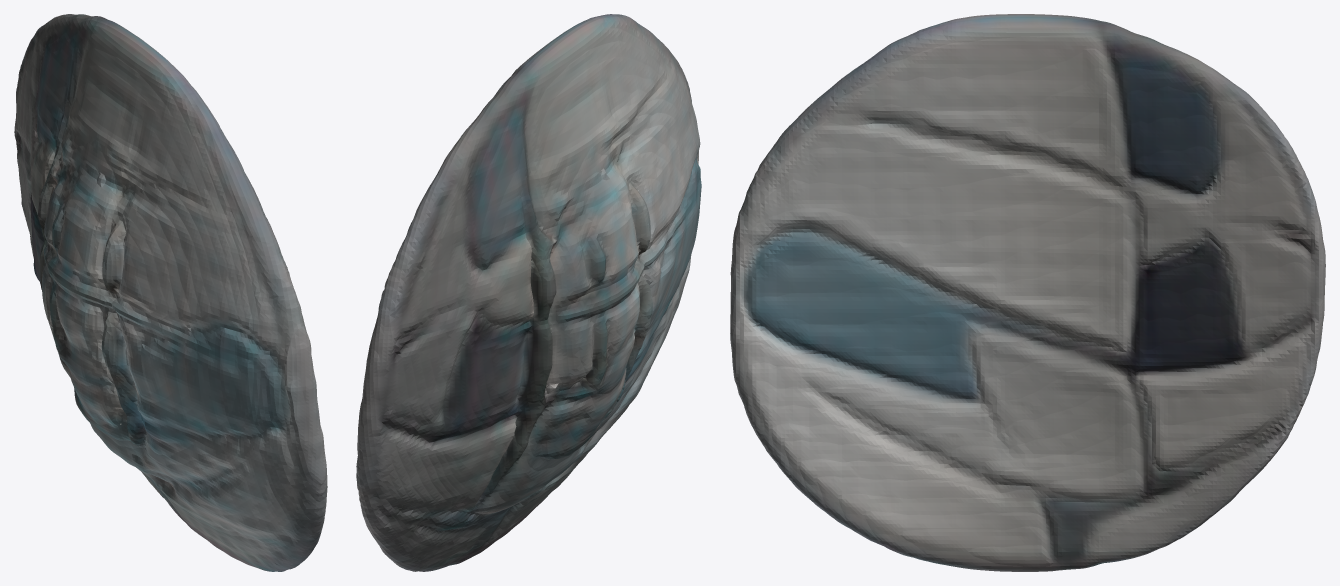
3 views of the same model, side by side, from view 1: azimuth 30°, elevation 25°; view 2: azimuth 150°, elevation 25°; view 3: azimuth 270°, elevation 25° (orthographic).
Parts seen in each view (by area): view 1: world; view 2: world; view 3: world.
Part boxes in pixels (x1,y1,x2,y2): world: (14, 14, 327, 571); world: (356, 14, 701, 571); world: (730, 14, 1325, 571).
Bounding box in the file's own units: 0.302 × 0.9588 × 0.997.
